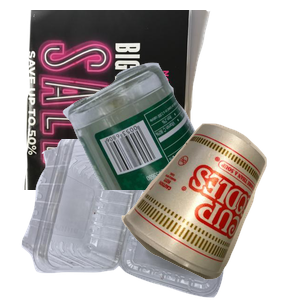glass: (60, 60, 300, 240)
paper: (22, 10, 225, 190)
plastic: (19, 139, 249, 300)
trash: (119, 121, 300, 300)
